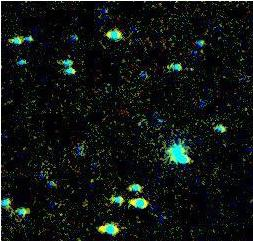star: (163, 138, 193, 168)
